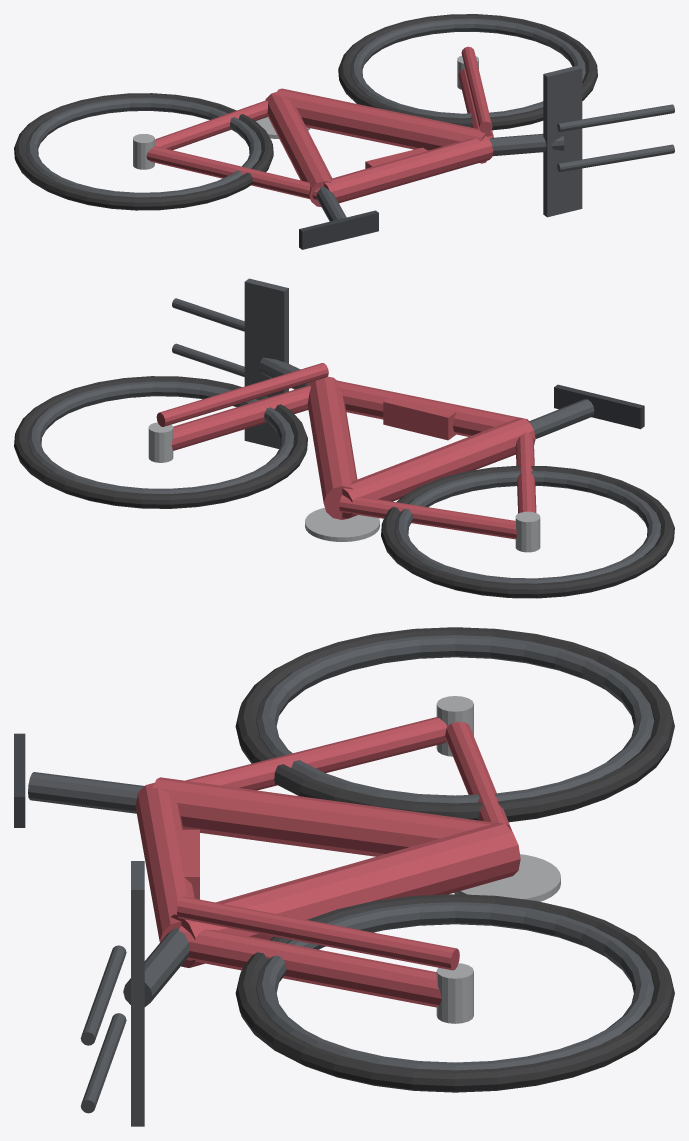
3 renders of one model, top to bottom at view 1: azimuth 30°, elevation 25°; view 2: azimuth 150°, elevation 25°; view 3: azimuth 270°, elevation 25°, orthographic. The views are drawn at different scales.
Parts seen in each view (by area): view 1: geometry_0; view 2: geometry_0; view 3: geometry_0.
Boxes of the visible parts, left/top/right/bottom form: geometry_0: left=14, top=14, right=674, bottom=249; geometry_0: left=14, top=278, right=674, bottom=598; geometry_0: left=14, top=627, right=674, bottom=1126.
Size of the model in its own units: 1.72 by 0.42 by 1.06.
